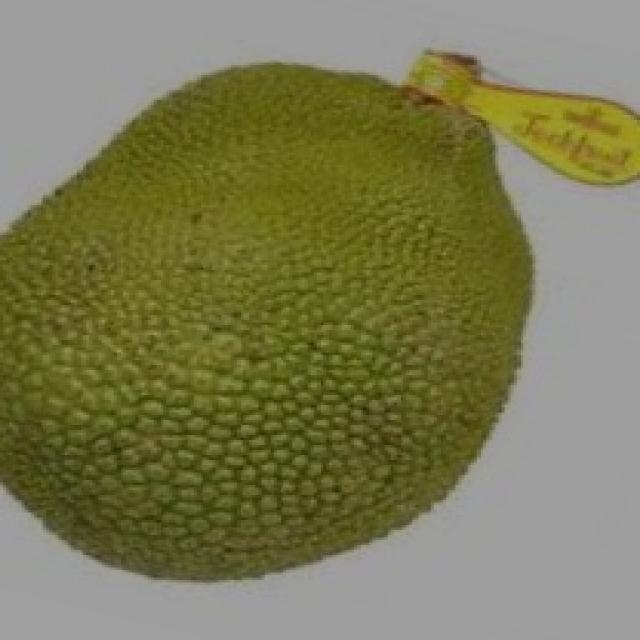Fruit: (231, 140, 578, 570)
